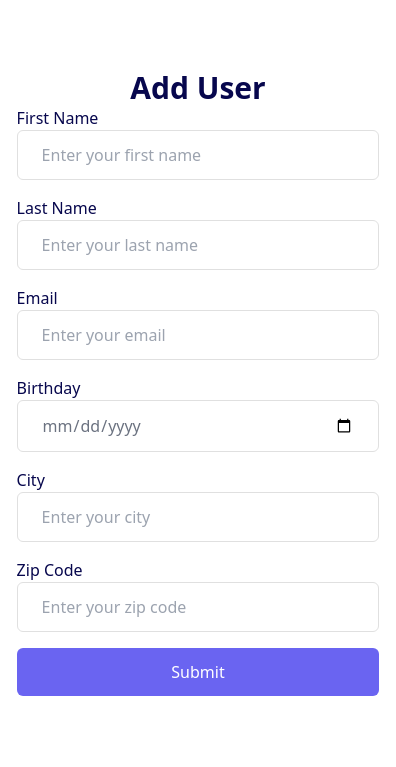
Test: Page › should clear error after valid input
Step 1. Click the button with test id "submit_button" → (198, 672), box x1=17 y1=648 x2=379 y2=696
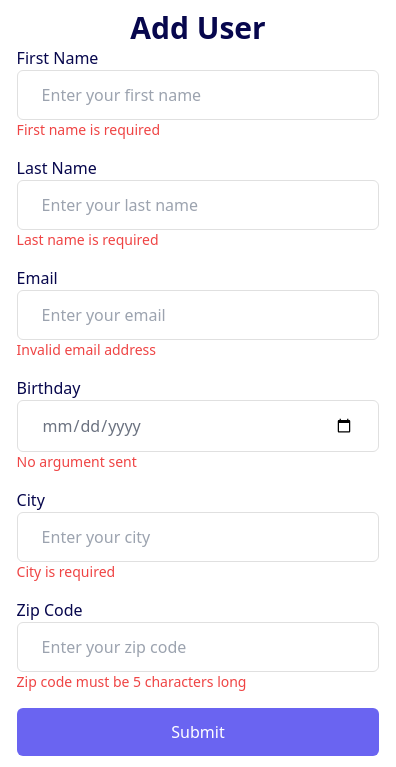
Result: the text "First name is required" is shown at x1=17 y1=120 x2=160 y2=139
Step 2. Type "John" into the field with test id "first_name" → (198, 95), box x1=17 y1=70 x2=379 y2=120
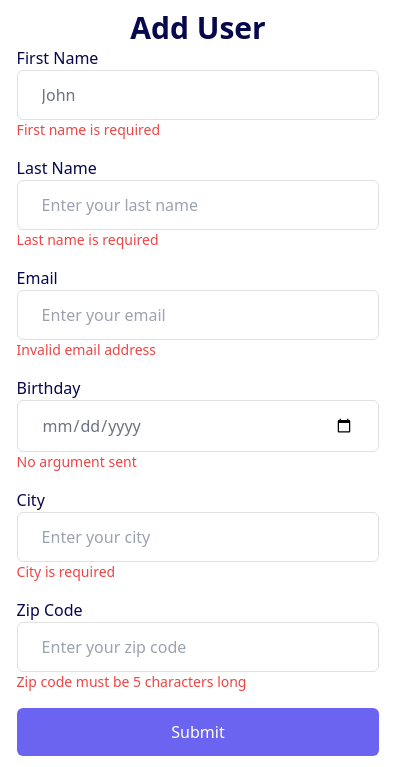
Step 3. Click the button with test id "submit_button" → (198, 732), box x1=17 y1=708 x2=379 y2=756
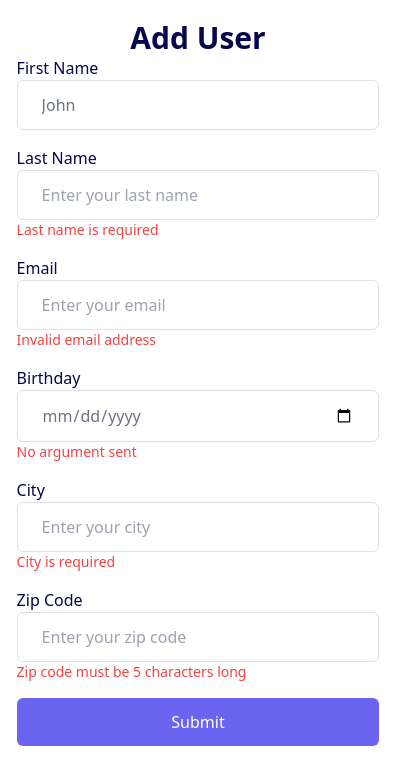
Result: the text with test id "first_name_error" is gone
